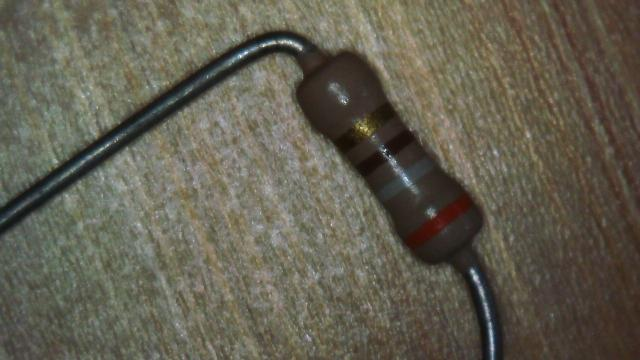brown: (356, 129, 418, 178)
gold: (340, 104, 393, 150)
orange: (404, 194, 474, 248)
resistor: (266, 18, 502, 282)
white: (376, 156, 439, 206)
